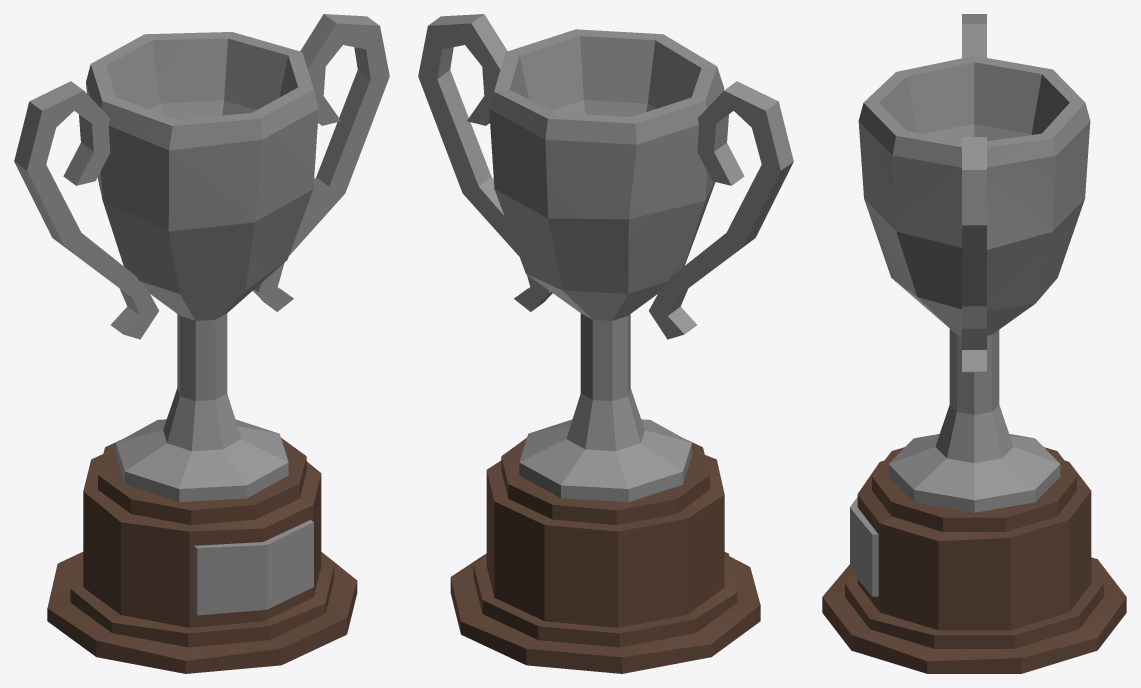
File: SM_Icon_Cup_02.fbx
3 renders of one model, left to right at view 1: azimuth 30°, elevation 25°; view 2: azimuth 150°, elevation 25°; view 3: azimuth 270°, elevation 25°, orthographic. The views are drawn at different scales.
Visible parts, largest first — view 1: SM_Icon_Cup_02; view 2: SM_Icon_Cup_02; view 3: SM_Icon_Cup_02.
Part boxes in pixels (x1=…): SM_Icon_Cup_02: x1=14, y1=14, x2=389, y2=673; SM_Icon_Cup_02: x1=418, y1=14, x2=793, y2=673; SM_Icon_Cup_02: x1=822, y1=14, x2=1126, y2=673.
Bounding box in the file's own units: 45.54 × 66.88 × 34.43.
